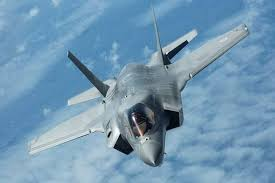fighter: (25, 9, 253, 168)
